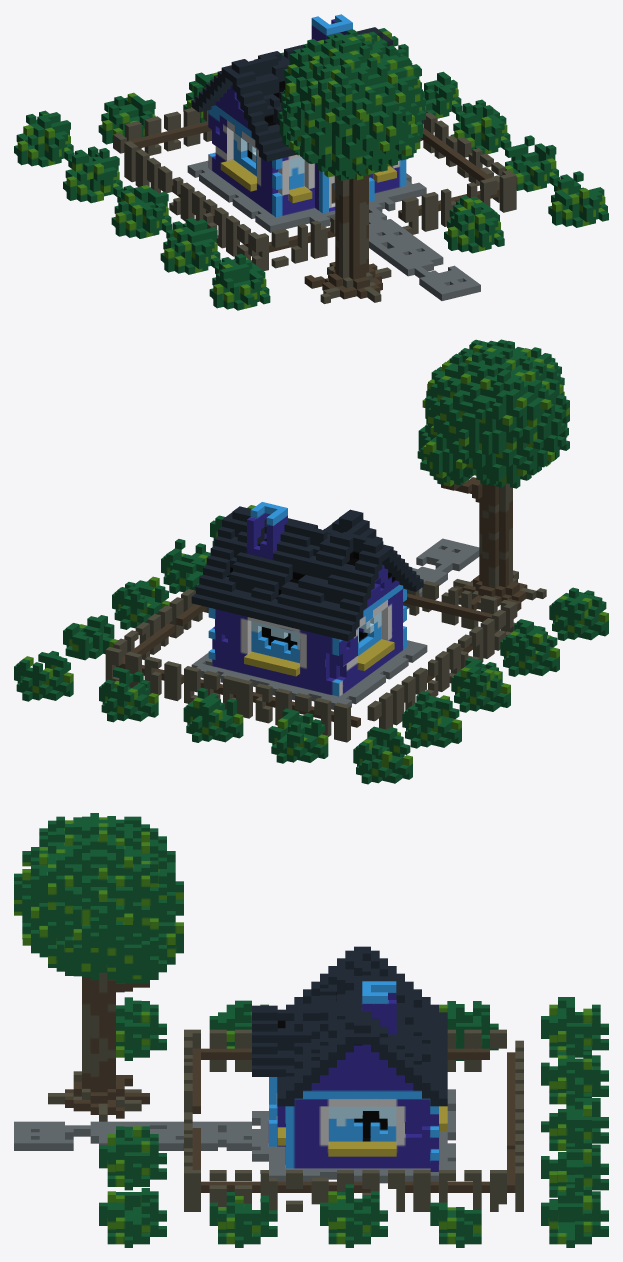
Rendered from building_small_2_damaged.glb.
The picture shows the model from 3 angles, top to bottom: view 1: azimuth 30°, elevation 25°; view 2: azimuth 150°, elevation 25°; view 3: azimuth 270°, elevation 25°; orthographic projection. The views are drawn at different scales.
Parts seen in each view (by area): view 1: building_small_2_damaged; view 2: building_small_2_damaged; view 3: building_small_2_damaged.
Part boxes in pixels (x1=…): building_small_2_damaged: x1=14, y1=14, x2=608, y2=310; building_small_2_damaged: x1=14, y1=339, x2=608, y2=784; building_small_2_damaged: x1=14, y1=813, x2=608, y2=1247.
Bounding box in the file's own units: 6 × 3.6 × 7.
1 material, 1 textured.
